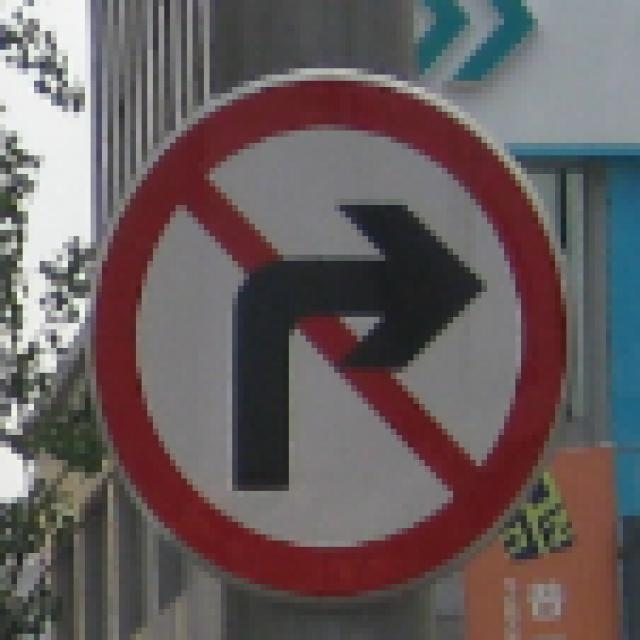Not that Direction: (71, 65, 564, 607)
